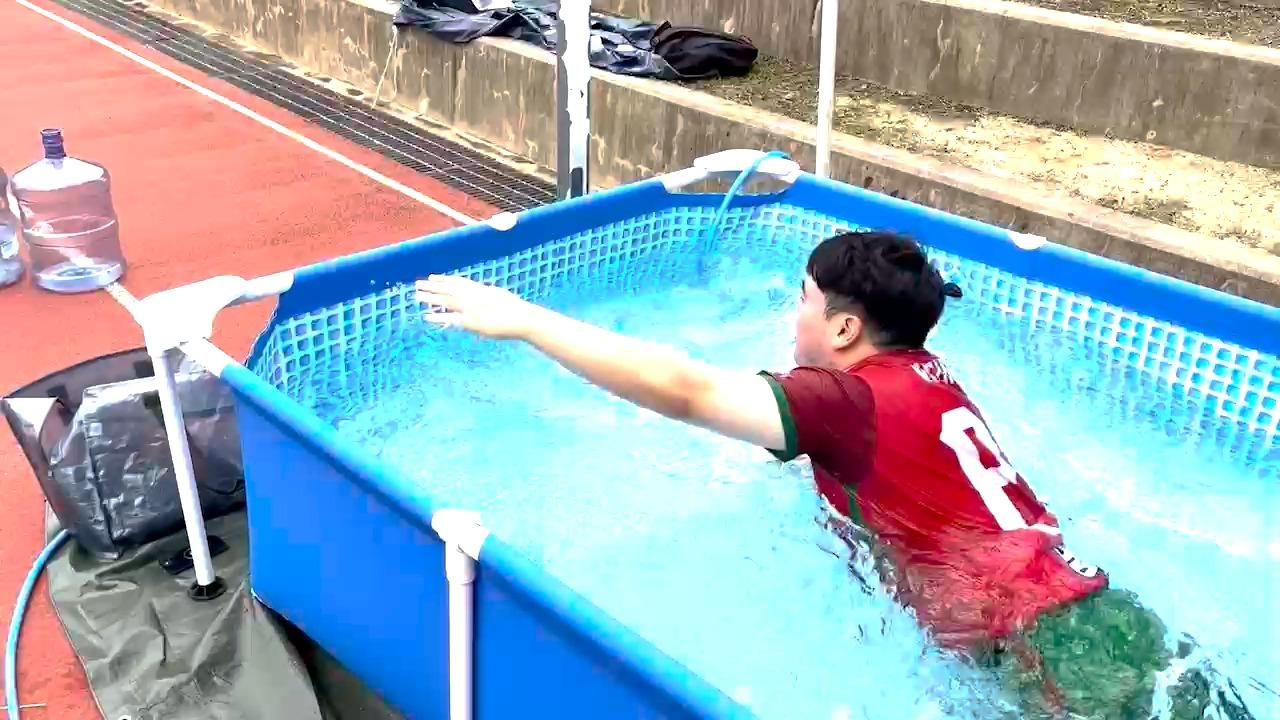Swimming: (418, 150, 1280, 716)
